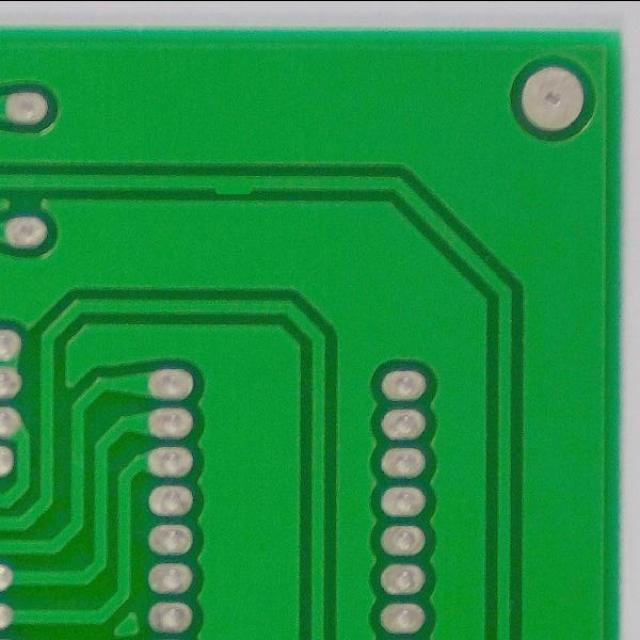Spur: (205, 170, 262, 200)
